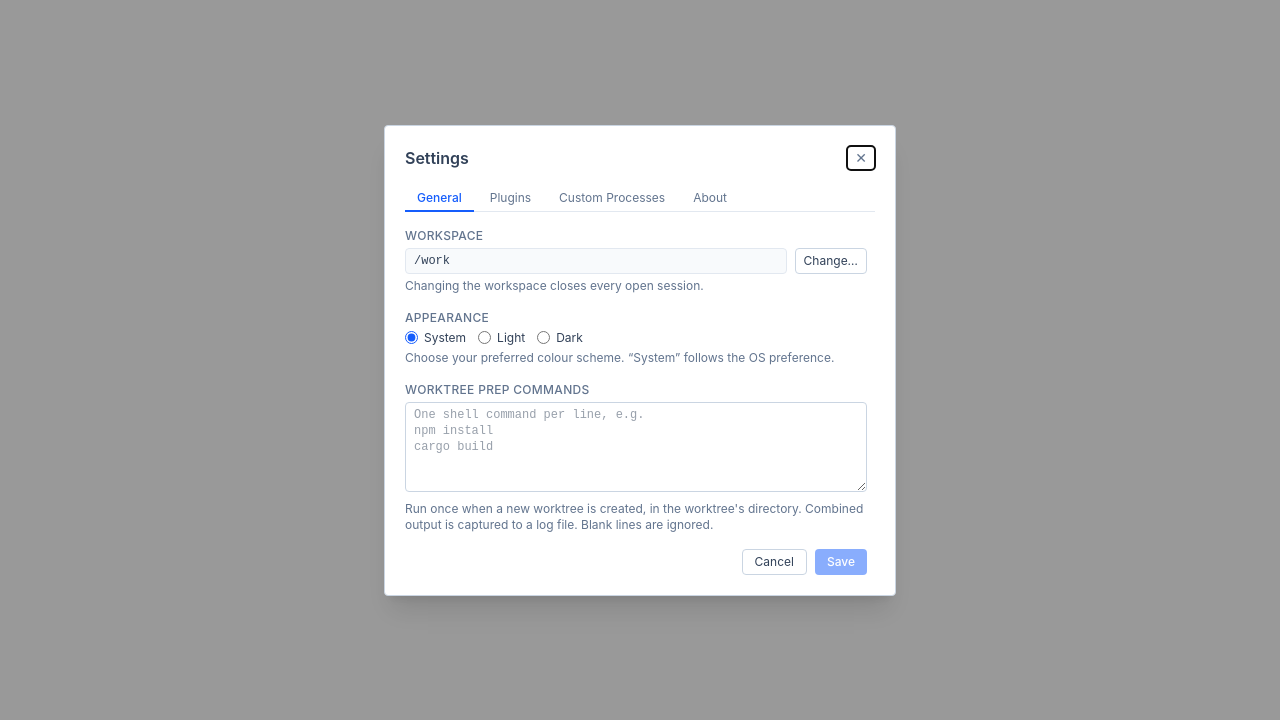
Test: SettingsDialog › surfaces backend errors without closing
Step 1. Type "bad command" into the text box labelled "Worktree Prep Commands" → (636, 446), box [405, 402, 867, 492]
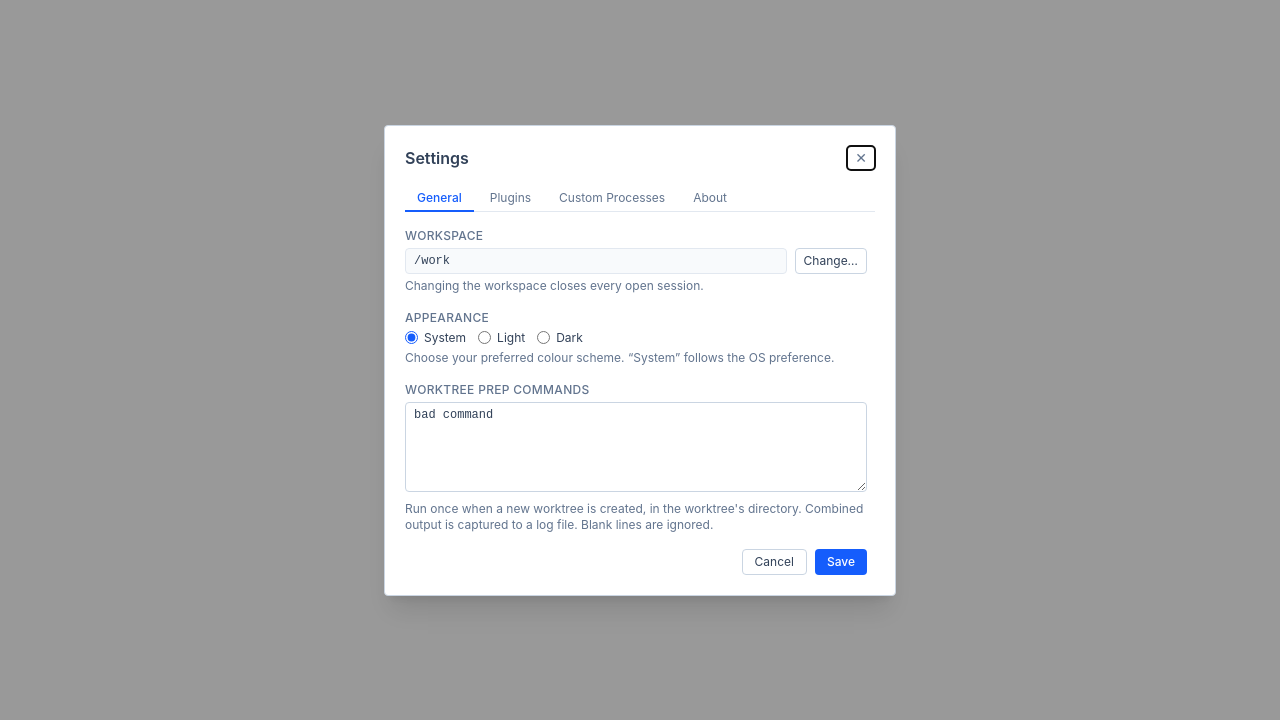
Step 2. Click the button "Save" → (841, 562), box [815, 548, 867, 574]
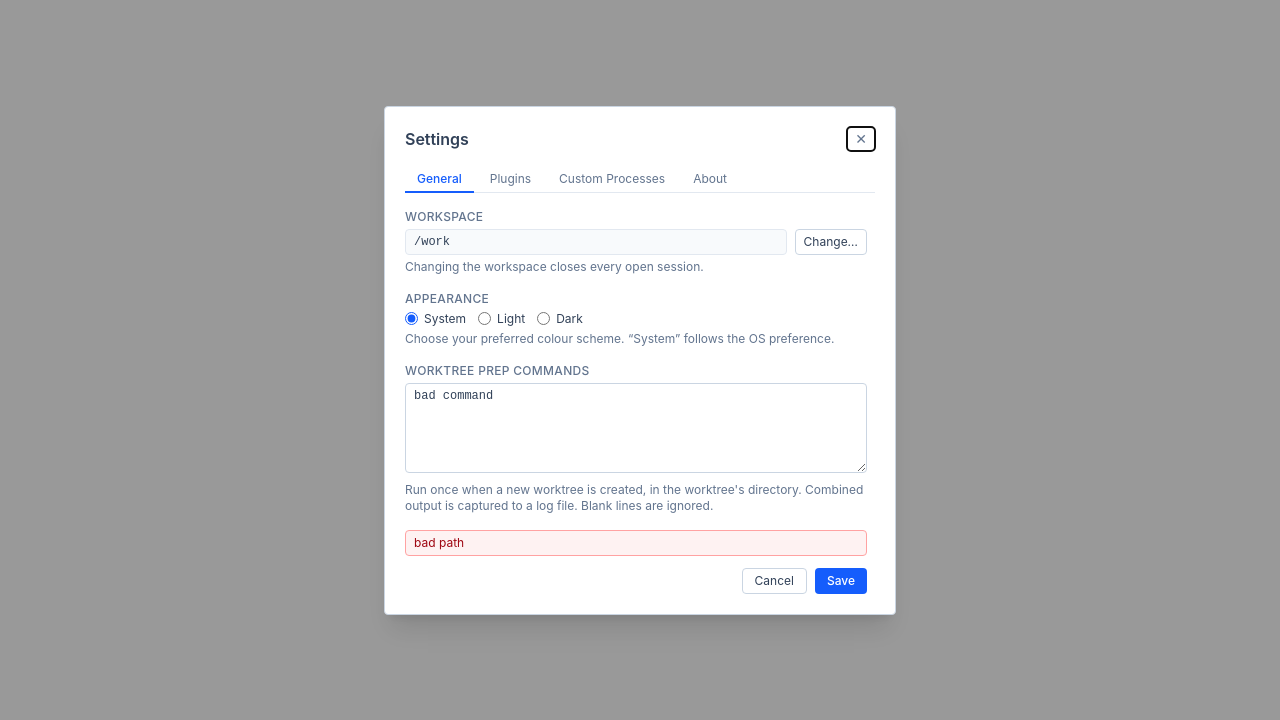
Result: the message with test id "settings-error" reads "bad path" at [414, 534, 464, 550]
